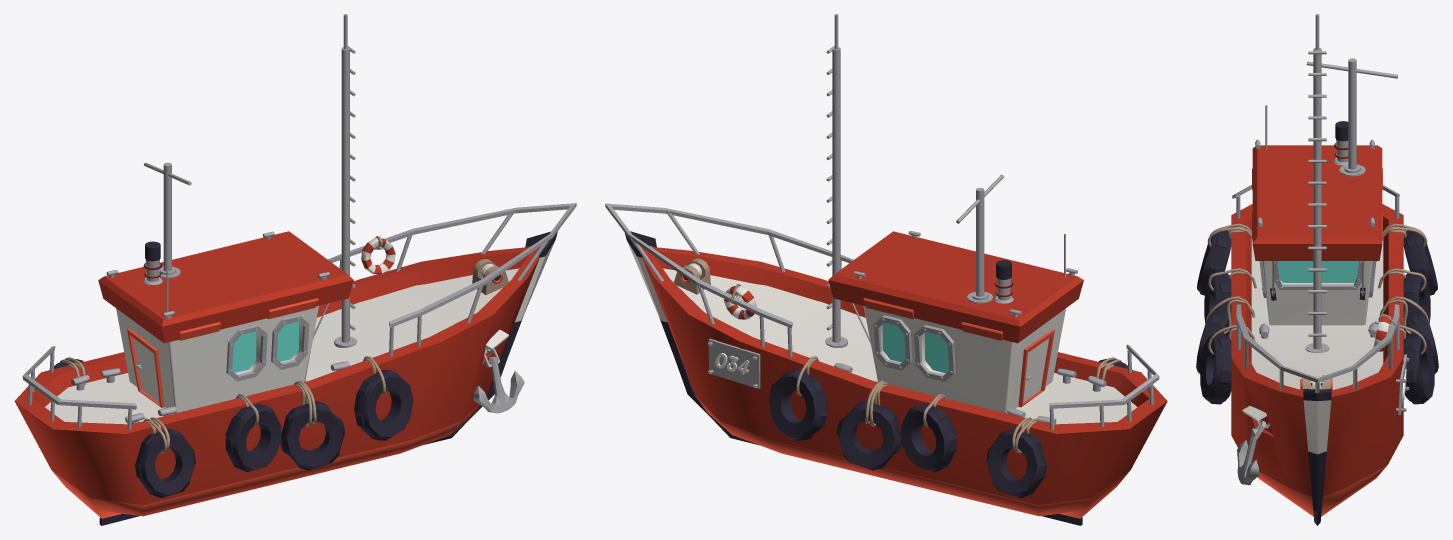
3 views of the same model, side by side, from view 1: azimuth 30°, elevation 25°; view 2: azimuth 150°, elevation 25°; view 3: azimuth 270°, elevation 25° (orthographic). The views are drawn at different scales.
Visible parts, largest first — view 1: polySurface22, pCube49, pCylinder203, polySurface19, polySurface18, polySurface24, pCylinder274, pCube52, polySurface23, pCube54, polySurface21, pCylinder275 (+4 smaller); view 2: polySurface22, pCube49, pCylinder203, polySurface18, polySurface19, polySurface24, pCylinder274, pCube51, polySurface23, typeMesh3, polySurface21, pCylinder275 (+3 smaller); view 3: polySurface22, pCube49, pCylinder203, polySurface19, polySurface18, polySurface23, pCylinder274, polySurface24, pCylinder275, pCube54, pCube53, typeMesh3 (+3 smaller).
Boxes of the visible parts, x1,y1,x2,y2 form: polySurface22: (14, 247, 539, 518); pCube49: (98, 231, 353, 343); pCylinder203: (49, 356, 413, 497); polySurface19: (45, 268, 519, 424); polySurface18: (116, 305, 318, 413); polySurface24: (328, 203, 576, 356); pCylinder274: (341, 47, 349, 342); pCube52: (226, 315, 309, 381); polySurface23: (99, 231, 557, 525); pCube54: (473, 356, 524, 413); polySurface21: (22, 346, 136, 409); pCylinder275: (163, 162, 171, 271); polySurface22: (640, 246, 1167, 518); pCube49: (828, 231, 1083, 343); pCylinder203: (769, 356, 1132, 498); polySurface18: (863, 306, 1065, 413); polySurface19: (663, 268, 1137, 424); polySurface24: (605, 203, 853, 357); pCylinder274: (832, 47, 840, 342); pCube51: (873, 315, 955, 381); polySurface23: (625, 231, 1082, 525); typeMesh3: (707, 338, 760, 388); polySurface21: (1049, 344, 1159, 408); pCylinder275: (976, 187, 984, 296); polySurface22: (1231, 204, 1403, 516); pCube49: (1252, 145, 1382, 260); pCylinder203: (1196, 223, 1438, 404); polySurface19: (1251, 238, 1383, 389); polySurface18: (1262, 261, 1372, 325); polySurface23: (1303, 389, 1331, 525); pCylinder274: (1313, 48, 1321, 349); polySurface24: (1236, 304, 1399, 393); pCylinder275: (1348, 58, 1356, 169); pCube54: (1237, 428, 1258, 485); pCube53: (1272, 261, 1364, 289); typeMesh3: (1396, 354, 1409, 414).
Size of the model in its own units: 13.88 by 11.01 by 5.27.
